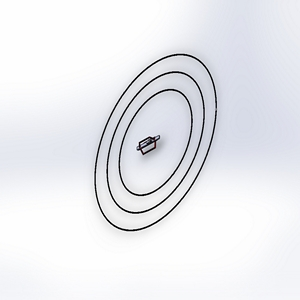circle: (92, 49, 222, 237)
submarine: (132, 129, 164, 159)
